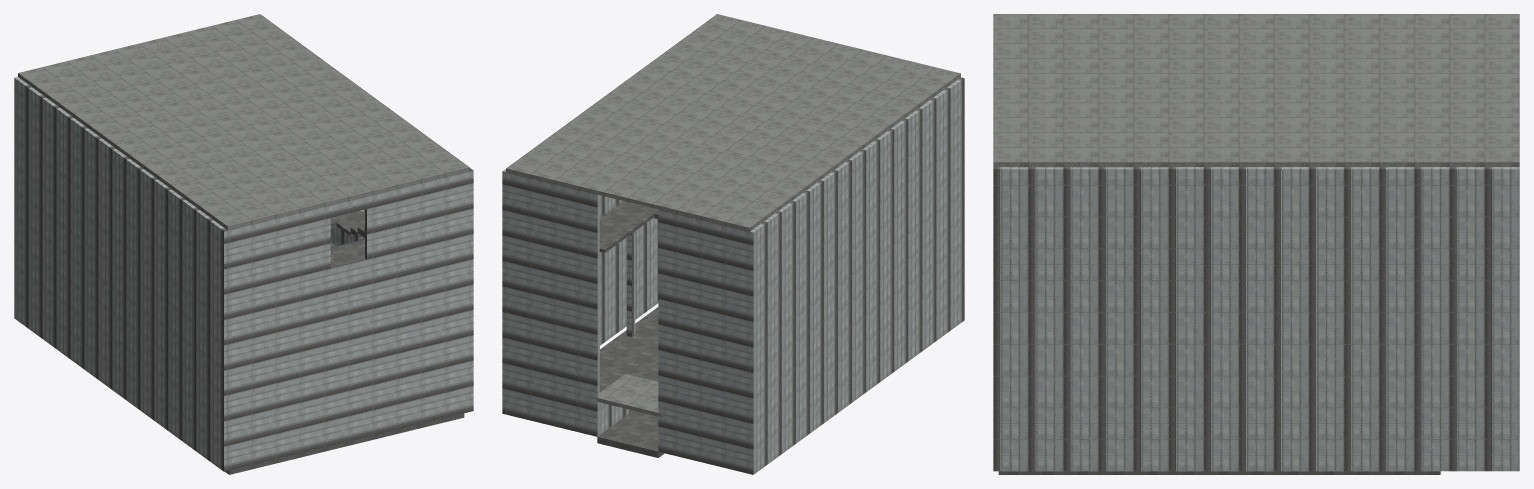
File: shell_hall_transit.glb
The picture shows the model from 3 angles, left to right: view 1: azimuth 30°, elevation 25°; view 2: azimuth 150°, elevation 25°; view 3: azimuth 270°, elevation 25°; orthographic projection. The views are drawn at different scales.
Visible parts, largest first — view 1: hl; view 2: hl; view 3: hl.
Boxes of the visible parts, bbox=[...] form: hl: bbox=[14, 14, 473, 474]; hl: bbox=[502, 14, 964, 474]; hl: bbox=[993, 14, 1519, 474].
Size of what is drawn, in the model's own units: 41.2 by 39.6 by 60.
Materials: 77 (77 with a texture image).
